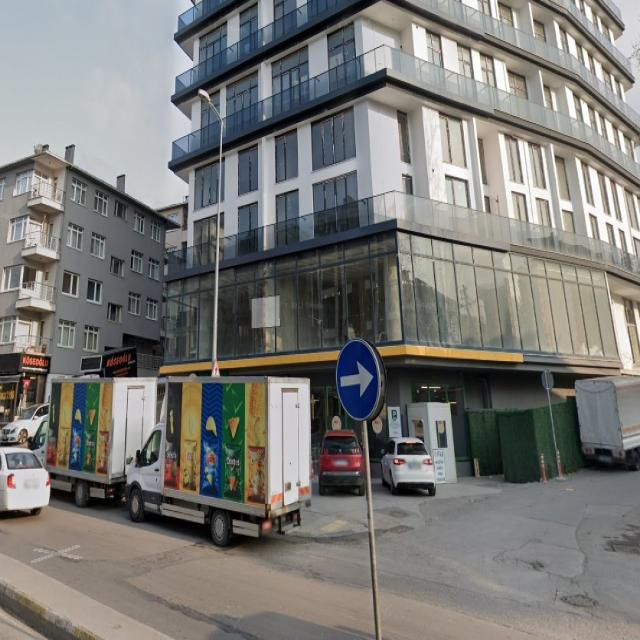Turn Right: (336, 340, 389, 423)
